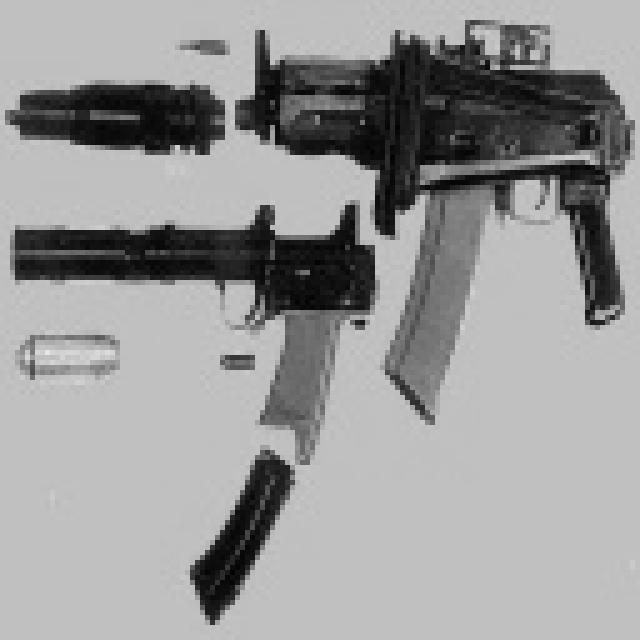Rifle: (0, 0, 640, 425), (0, 185, 405, 640)
